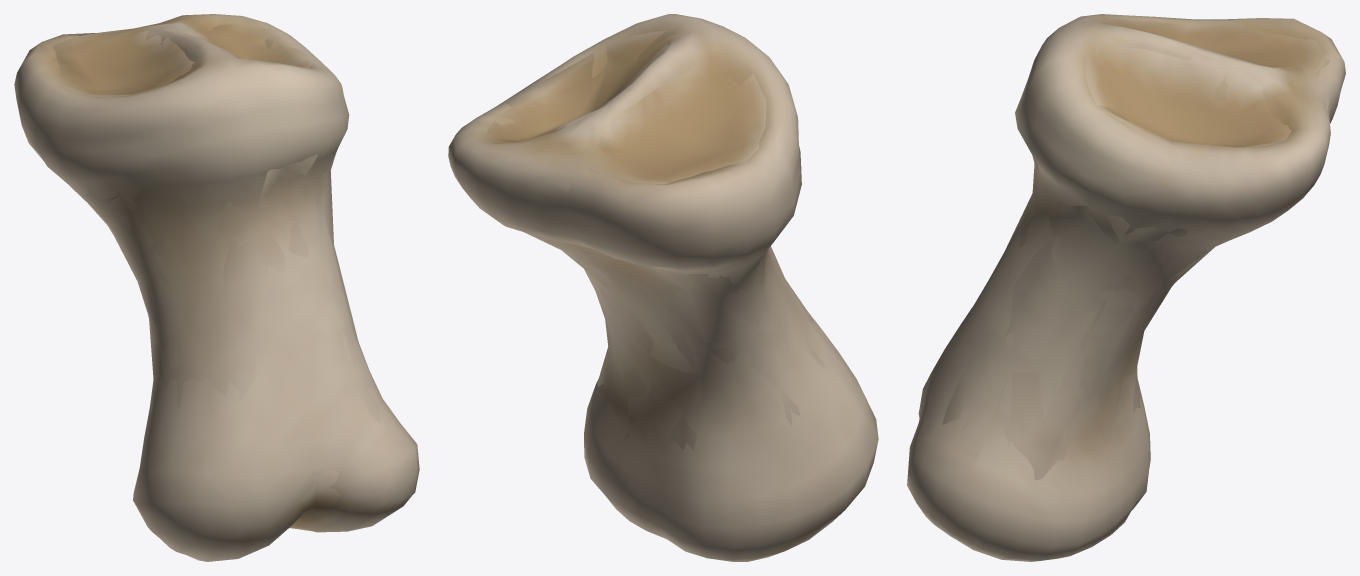
The model's file is FL 1st Phalanx.fbx.
The picture shows the model from 3 angles, left to right: view 1: azimuth 30°, elevation 25°; view 2: azimuth 150°, elevation 25°; view 3: azimuth 270°, elevation 25°; orthographic projection. The views are drawn at different scales.
Visible parts, largest first — view 1: FL 1st Phalanx, FL 1st Phalanx low; view 2: FL 1st Phalanx, FL 1st Phalanx low; view 3: FL 1st Phalanx, FL 1st Phalanx low.
Boxes of the visible parts, <box> form: FL 1st Phalanx: <box>14,14,419,561</box>; FL 1st Phalanx low: <box>52,24,385,525</box>; FL 1st Phalanx: <box>448,14,878,561</box>; FL 1st Phalanx low: <box>487,30,825,452</box>; FL 1st Phalanx: <box>907,14,1345,561</box>; FL 1st Phalanx low: <box>942,19,1331,479</box>.
Size of the model in its own units: 6.54 by 10.53 by 8.35.
1 material, 1 textured.
